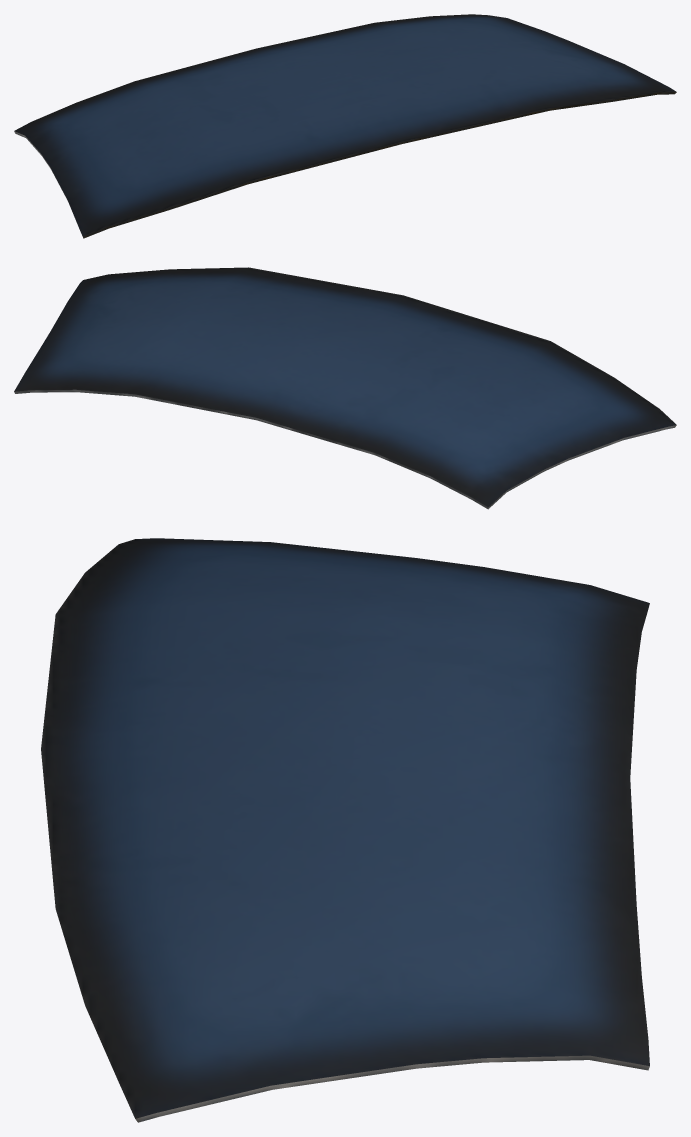
File: FordCrownVic92RearWindshield_WorldItem.fbx
3 views of the same model, one above another, from view 1: azimuth 30°, elevation 25°; view 2: azimuth 150°, elevation 25°; view 3: azimuth 270°, elevation 25° (orthographic). The views are drawn at different scales.
Parts seen in each view (by area): view 1: RearWindshield_obj; view 2: RearWindshield_obj; view 3: RearWindshield_obj.
Boxes of the visible parts, box(x1,y1,x2,y2) form: RearWindshield_obj: box(14, 14, 676, 238); RearWindshield_obj: box(14, 267, 676, 509); RearWindshield_obj: box(41, 538, 649, 1122).
Bounding box in the file's own units: 2.79 × 0.2303 × 1.24.
